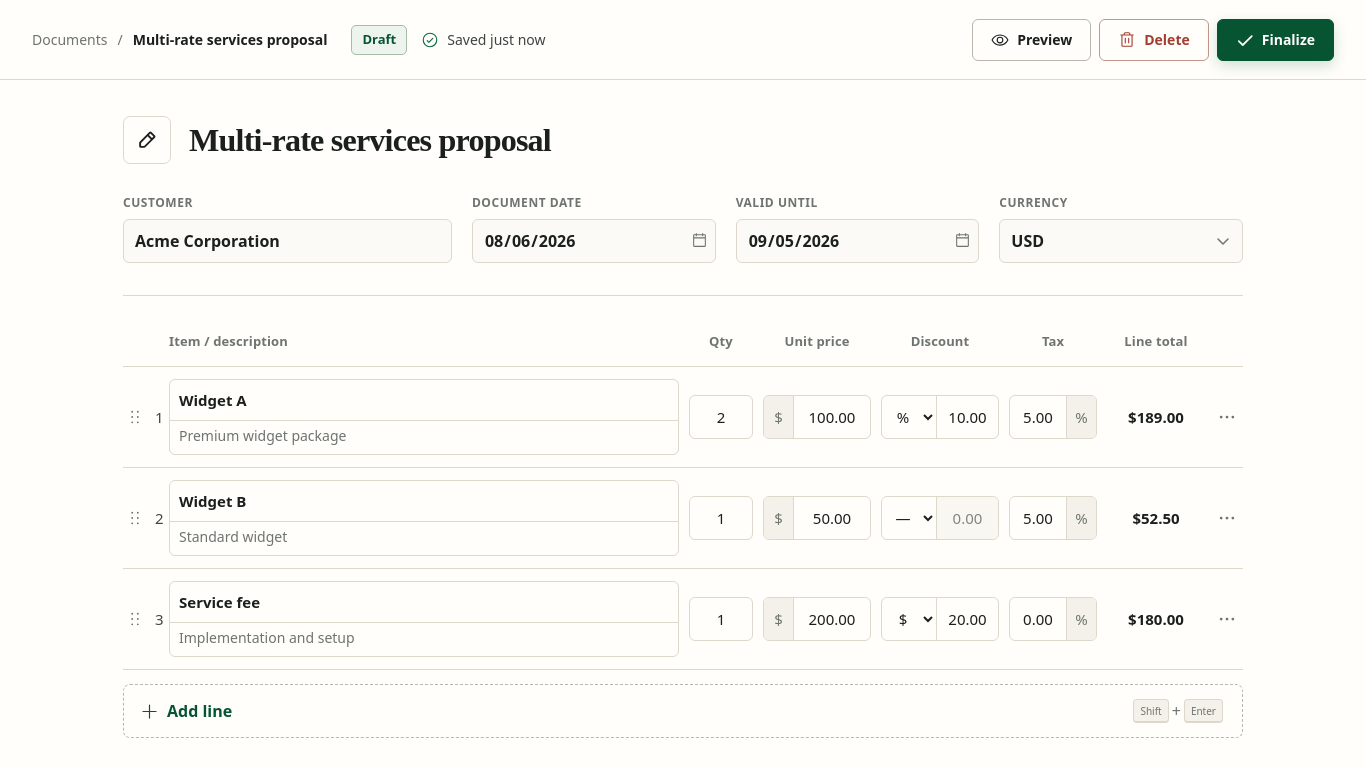
Test: DocumentEditorPage › shows a bottom-right toast when a negative unit price is attempted
This screenshot has width=1366, height=768.
Replace the text in the field named "Line 1 unit price" with "-" at (832, 417), box [794,396,870,438]
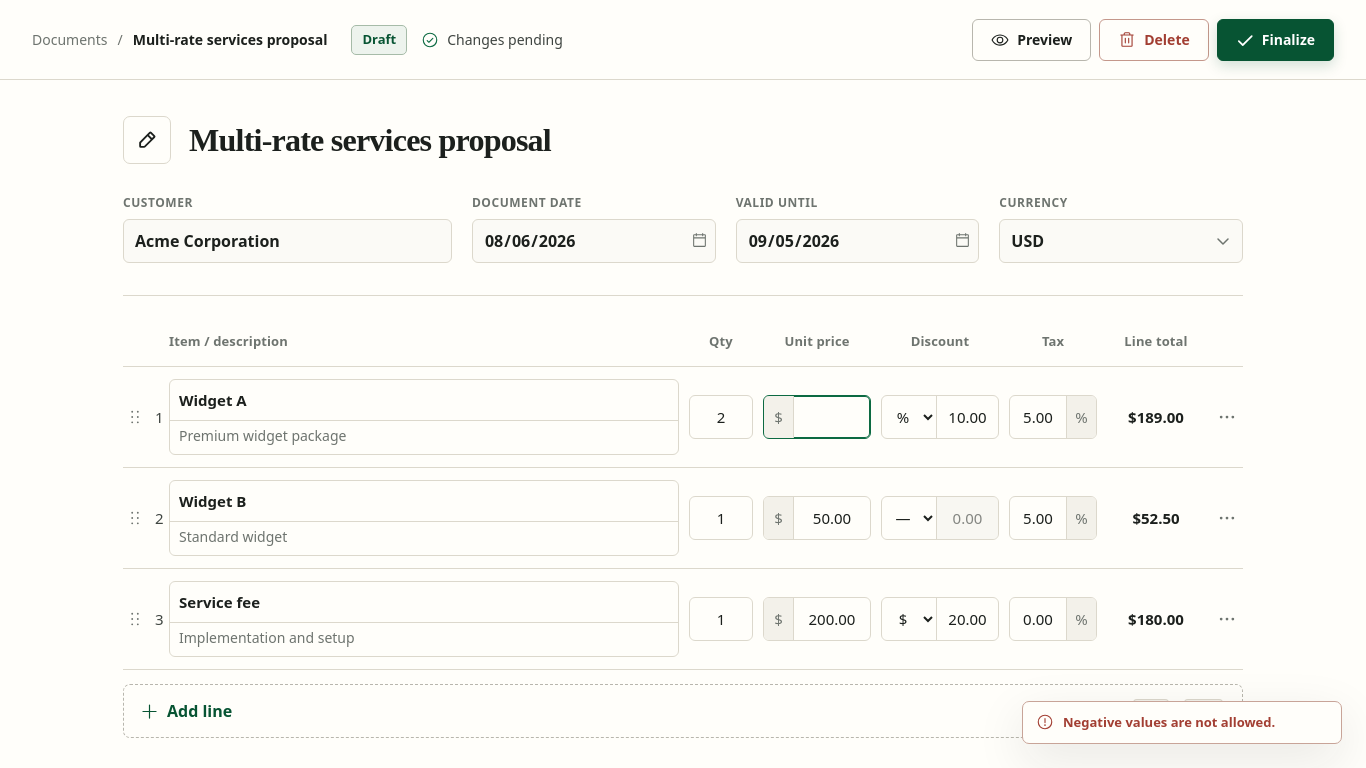
Now the message reads "Negative values are not allowed.", box [1063,712,1275,730]
